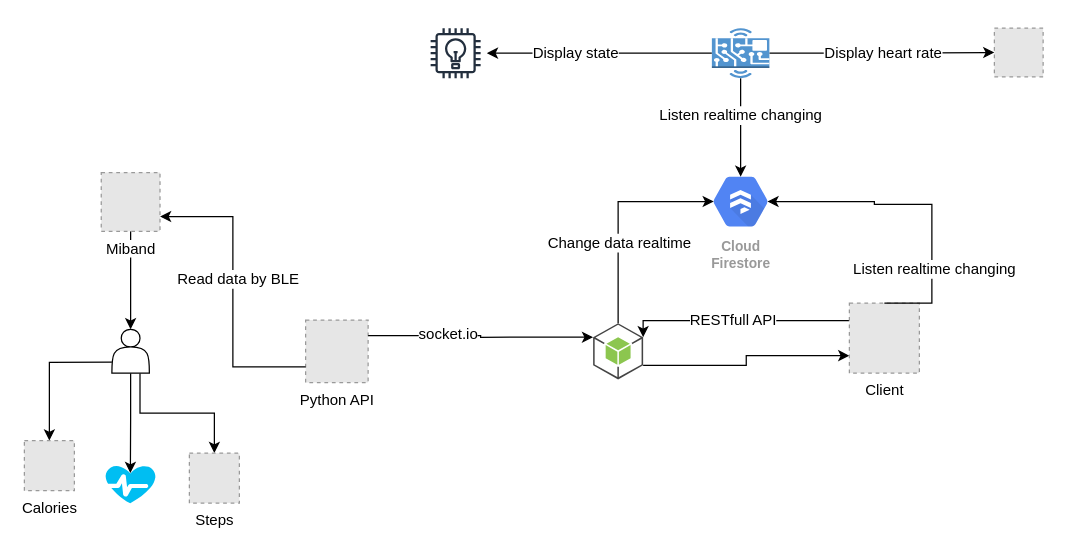
Some shapes in this 1065 by 551 pixel diagram are drawn without their labels. Grey dashed boxes stand in for pictures. Here are the shapes that lost their labels. From the top down, the centre of each, then its label:
At point (455, 52): "Lightbulb".
At point (617, 350): "Nodejs Server".
At point (130, 483): "Heart rate".
